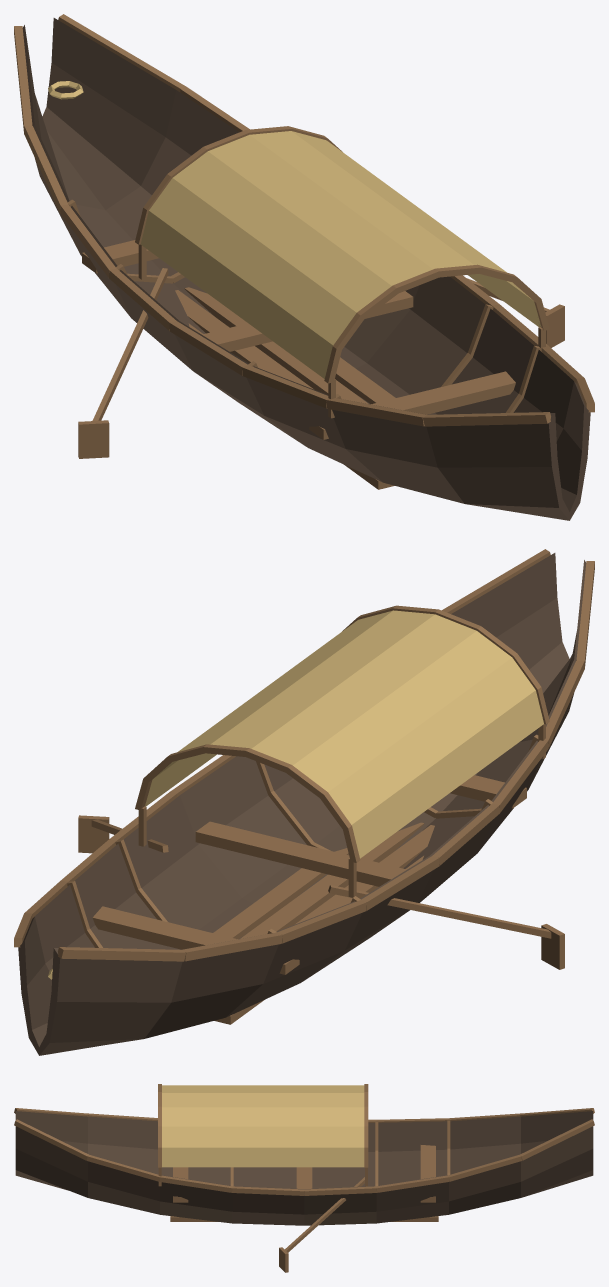
Rendered from KOL_HBR_PROP_15.fbx.
3 renders of one model, top to bottom at view 1: azimuth 30°, elevation 25°; view 2: azimuth 150°, elevation 25°; view 3: azimuth 270°, elevation 25°, orthographic. The views are drawn at different scales.
Parts seen in each view (by area): view 1: KOL_HBR_PROP_15__Model__DarkWood, KOL_HBR_PROP_15__Model__Canvas, KOL_HBR_PROP_15__Model__Timber; view 2: KOL_HBR_PROP_15__Model__DarkWood, KOL_HBR_PROP_15__Model__Canvas, KOL_HBR_PROP_15__Model__Timber; view 3: KOL_HBR_PROP_15__Model__DarkWood, KOL_HBR_PROP_15__Model__Canvas, KOL_HBR_PROP_15__Model__Timber.
Boxes of the visible parts, x1,y1,x2,y2 form: KOL_HBR_PROP_15__Model__DarkWood: (22,18,590,520); KOL_HBR_PROP_15__Model__Canvas: (48,81,541,378); KOL_HBR_PROP_15__Model__Timber: (14,14,594,489); KOL_HBR_PROP_15__Model__DarkWood: (18,553,586,1055); KOL_HBR_PROP_15__Model__Canvas: (48,610,543,979); KOL_HBR_PROP_15__Model__Timber: (14,549,594,1024); KOL_HBR_PROP_15__Model__DarkWood: (15,1111,593,1225); KOL_HBR_PROP_15__Model__Canvas: (162,1085,364,1167); KOL_HBR_PROP_15__Model__Timber: (14,1084,594,1272).
Size of the model in its own units: 14.81 by 6.68 by 28.16.
